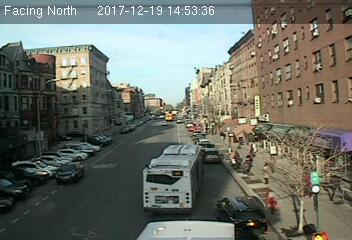bus: (140, 142, 206, 213)
car: (216, 194, 270, 234), (54, 160, 85, 181), (204, 148, 222, 162)
pedestrian: (262, 161, 272, 185)
